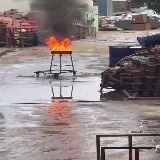fire: (46, 35, 73, 51)
